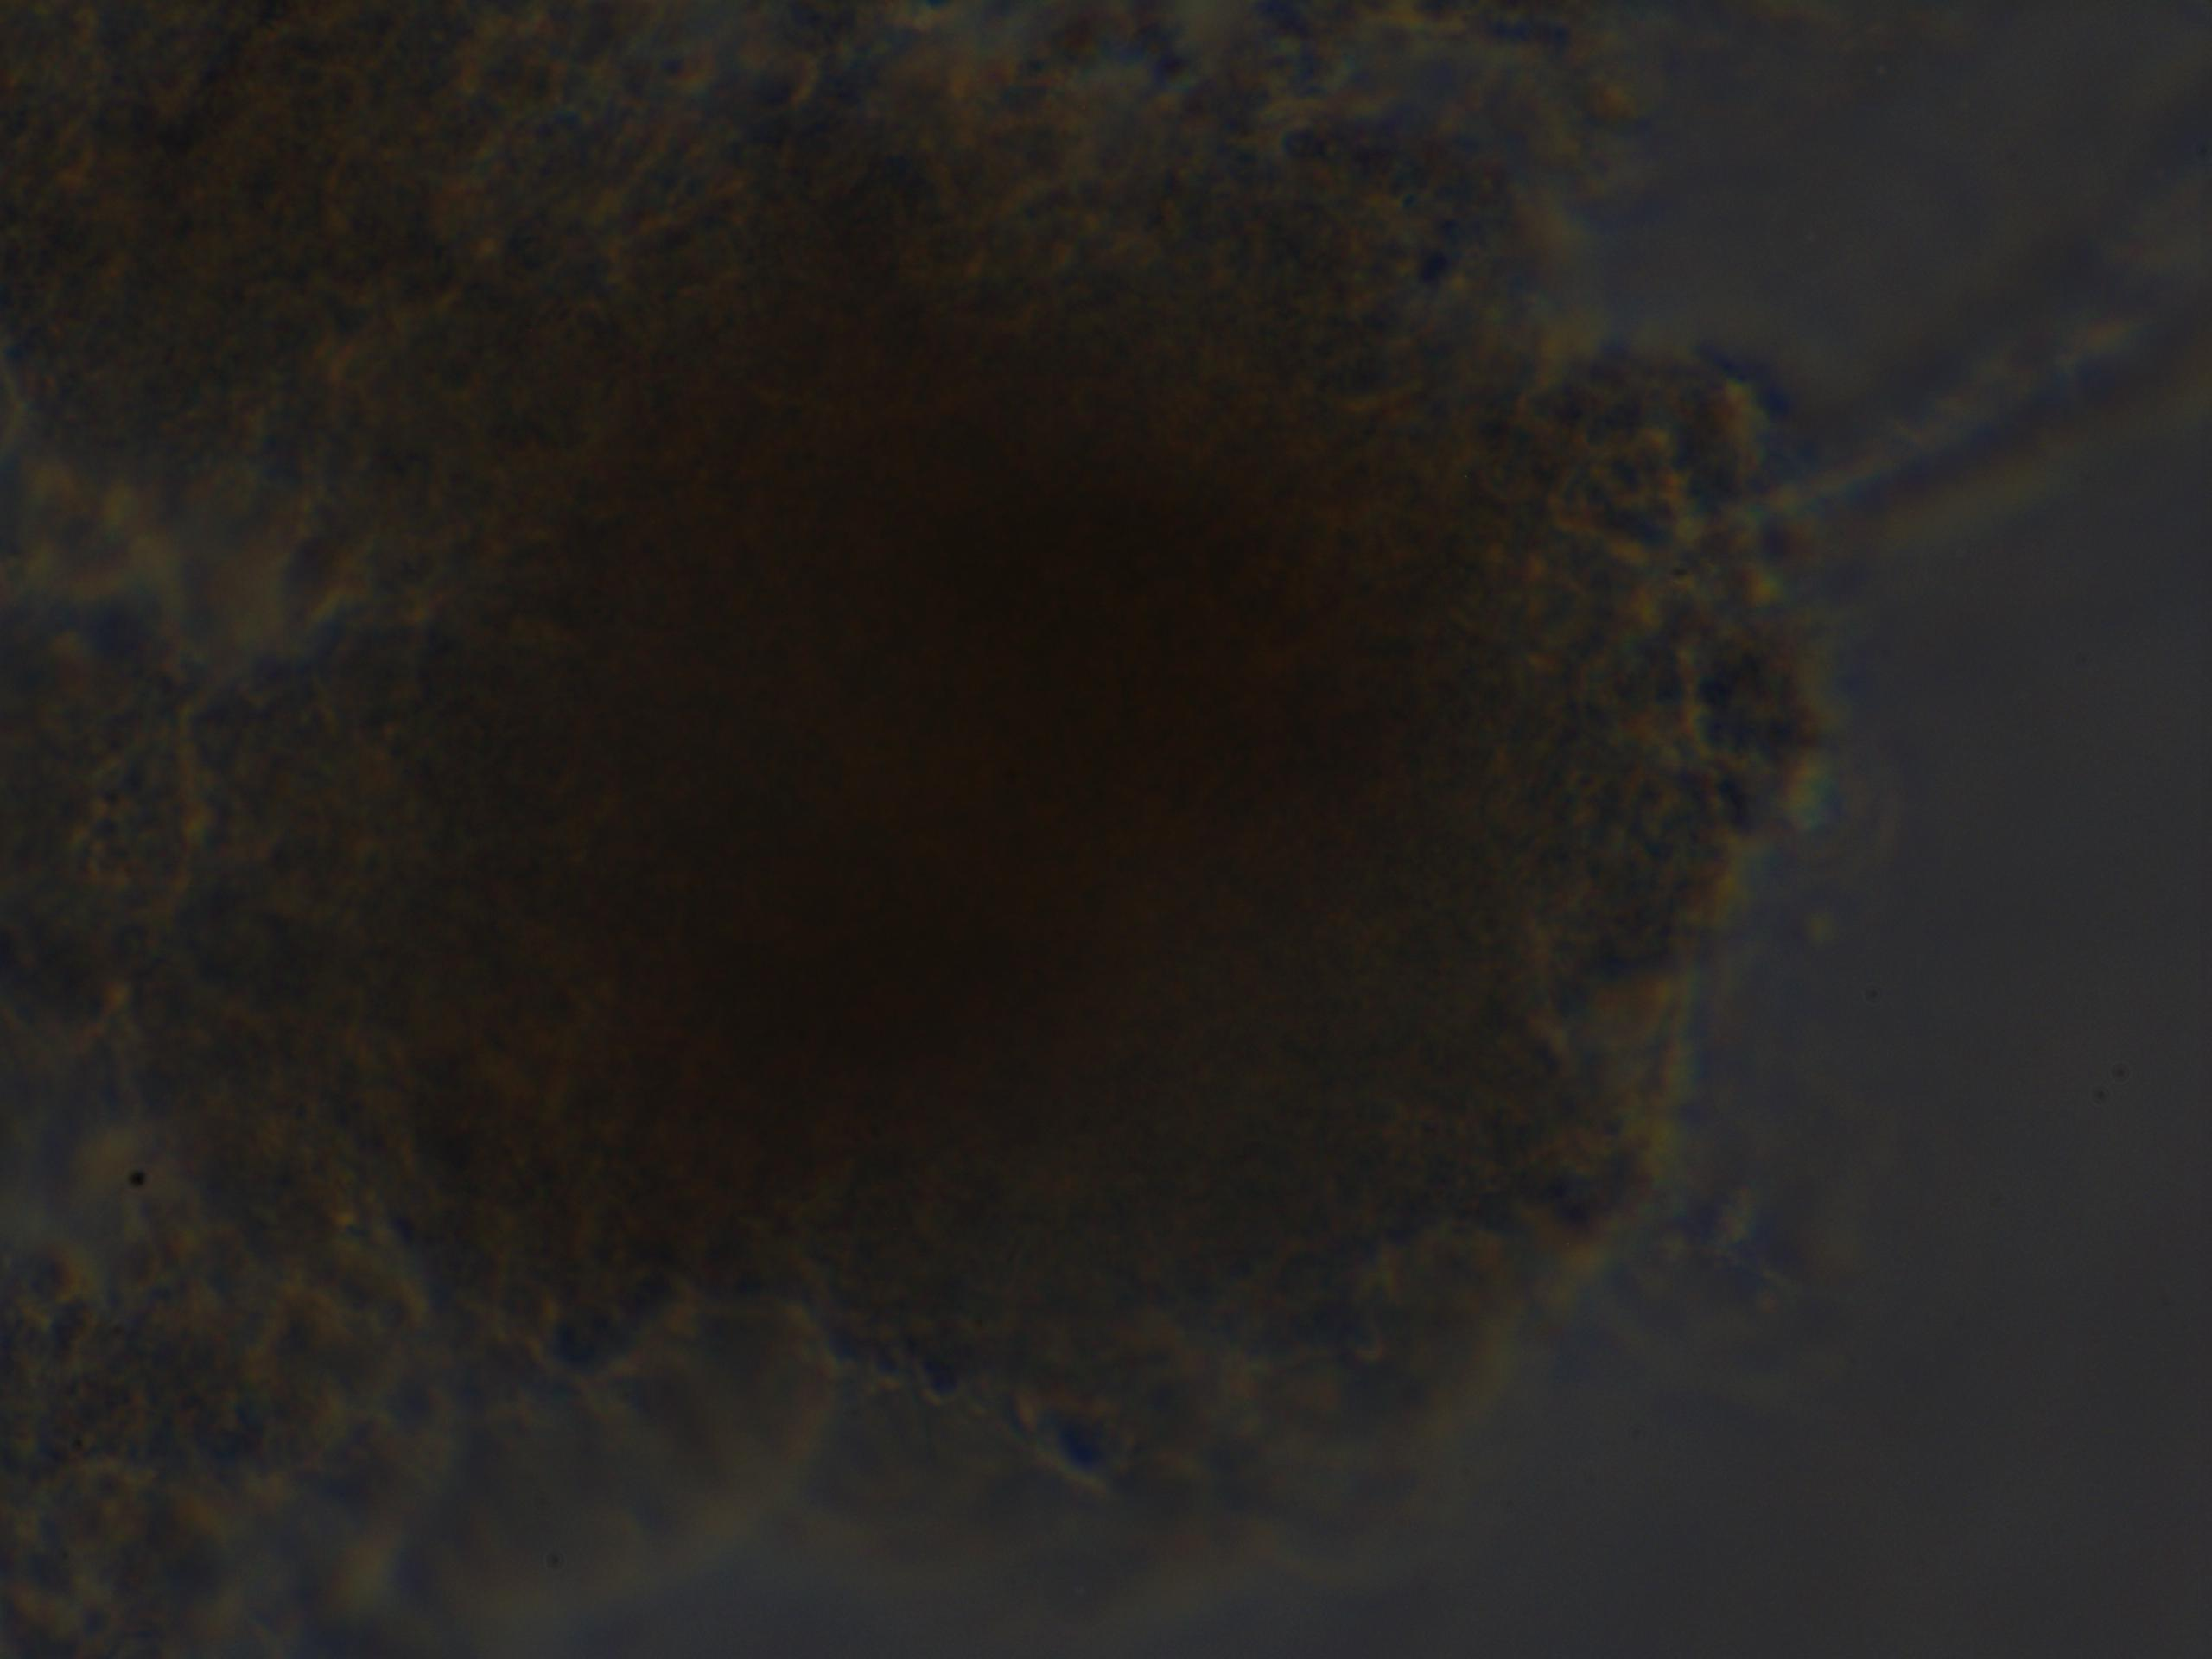spherical_floc: (0, 0, 1778, 1488)
